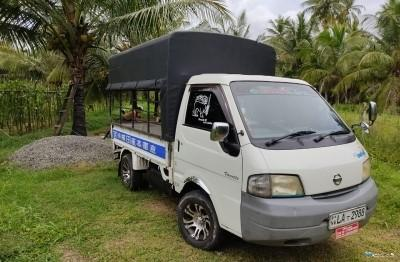truck: (105, 32, 378, 251)
